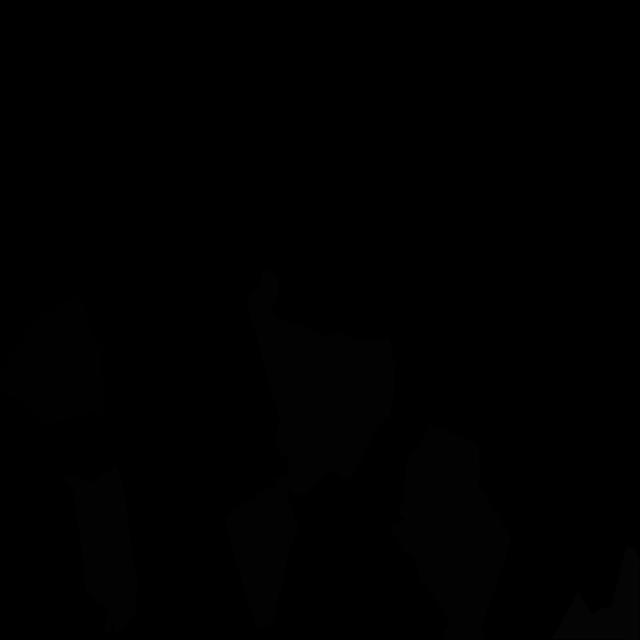cardboard: (224, 270, 396, 630), (390, 423, 512, 640), (63, 465, 138, 633)
rigid_plastic: (0, 295, 106, 425)
soft_plastic: (551, 547, 640, 640)
